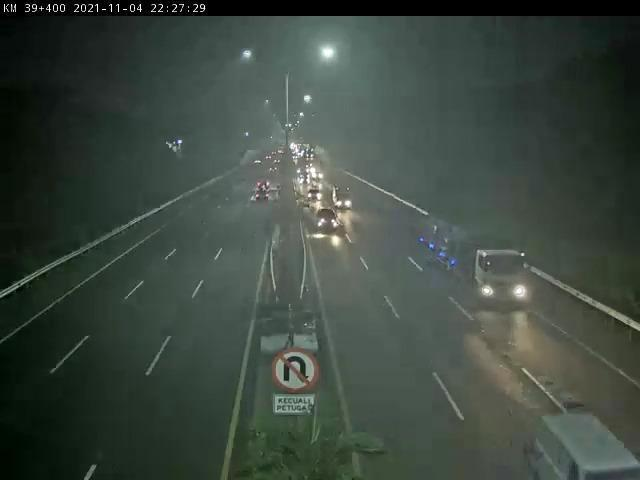car: (539, 417, 640, 480), (315, 209, 339, 230), (255, 191, 272, 205)
truck: (416, 217, 531, 307)
